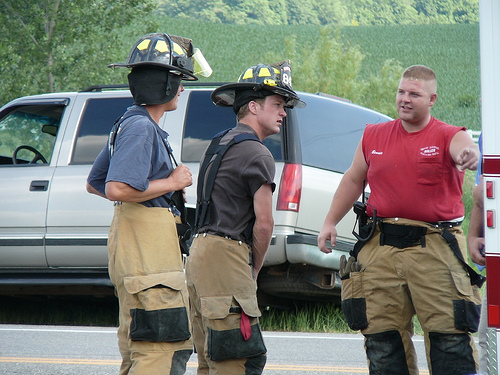helmet: (223, 55, 302, 106), (124, 34, 197, 87)
